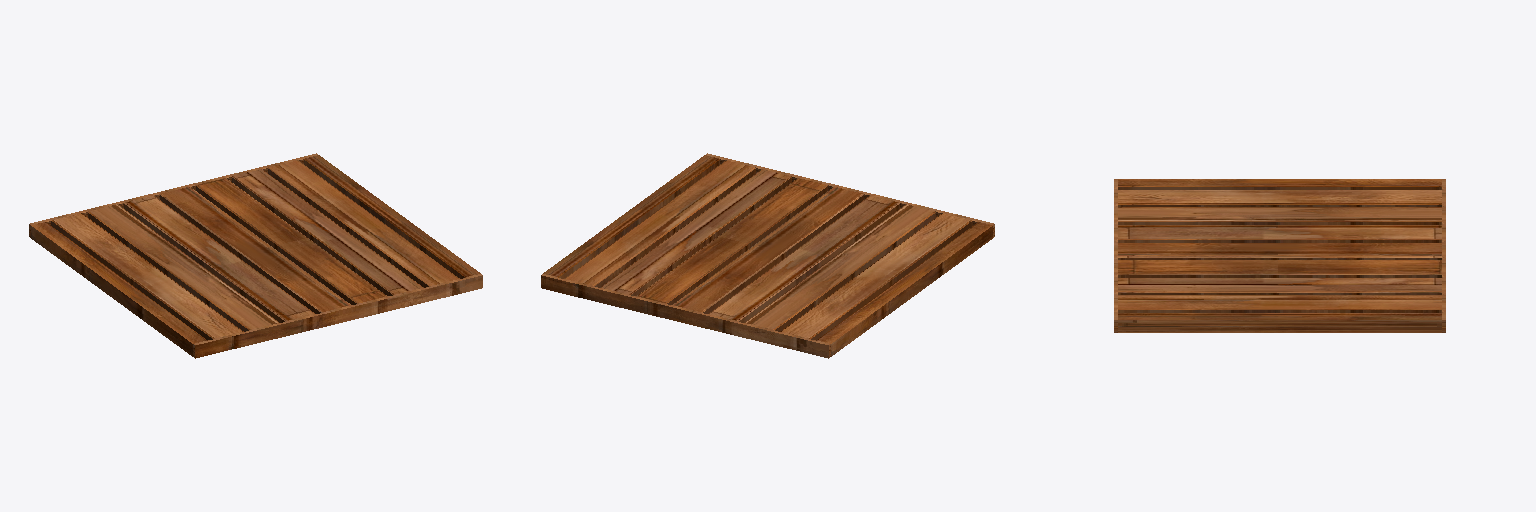
3 renders of one model, left to right at view 1: azimuth 30°, elevation 25°; view 2: azimuth 150°, elevation 25°; view 3: azimuth 270°, elevation 25°, orthographic.
Parts seen in each view (by area): view 1: Cube; view 2: Cube; view 3: Cube.
Part boxes in pixels (x1,y1,x2,y2): Cube: (29,153,482,358); Cube: (541,153,994,358); Cube: (1114,179,1445,332).
Size of the model in its own units: 4 by 0.1728 by 4.
1 materials, 1 textured.